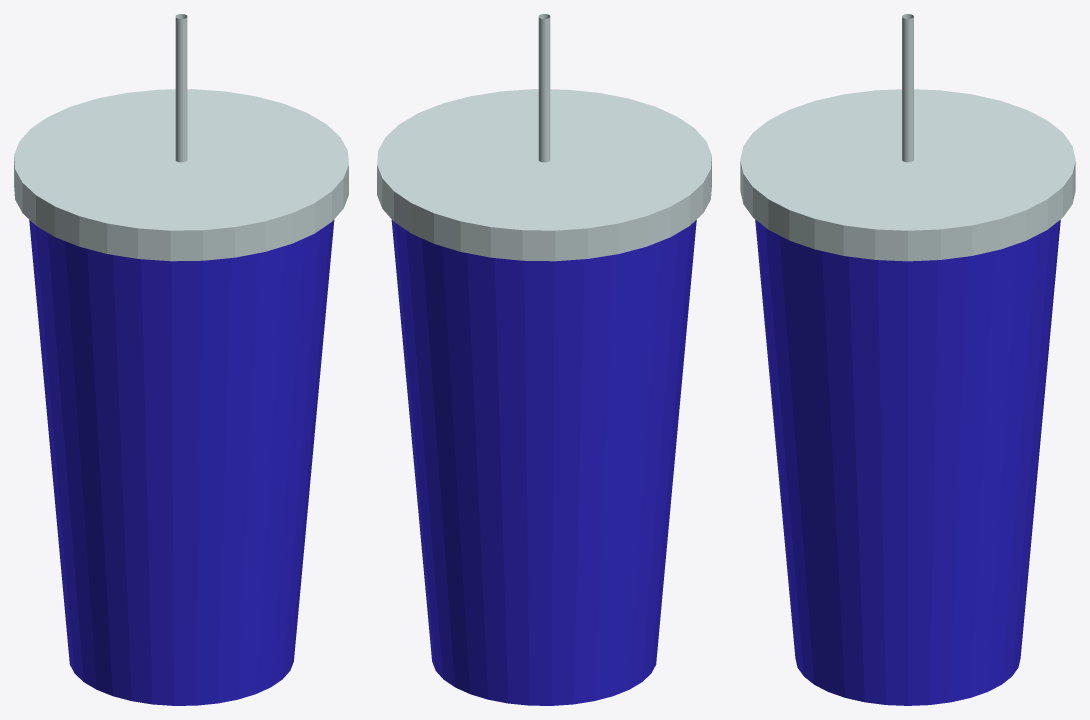
The model's file is SodaJumbo.glb.
3 views of the same model, side by side, from view 1: azimuth 30°, elevation 25°; view 2: azimuth 150°, elevation 25°; view 3: azimuth 270°, elevation 25° (orthographic).
Parts seen in each view (by area): view 1: Cylinder, Cylinder.001, Cylinder.002; view 2: Cylinder, Cylinder.001, Cylinder.002; view 3: Cylinder, Cylinder.001, Cylinder.002.
Boxes of the visible parts, x1=… form: Cylinder: x1=29, y1=219, x2=334, y2=705; Cylinder.001: x1=14, y1=89, x2=348, y2=261; Cylinder.002: x1=175, y1=14, x2=187, y2=162; Cylinder: x1=391, y1=219, x2=696, y2=705; Cylinder.001: x1=377, y1=89, x2=711, y2=261; Cylinder.002: x1=538, y1=14, x2=550, y2=162; Cylinder: x1=755, y1=220, x2=1060, y2=705; Cylinder.001: x1=740, y1=89, x2=1075, y2=261; Cylinder.002: x1=902, y1=14, x2=913, y2=162.
Size of the model in its own units: 2.24 by 4.72 by 2.24.
